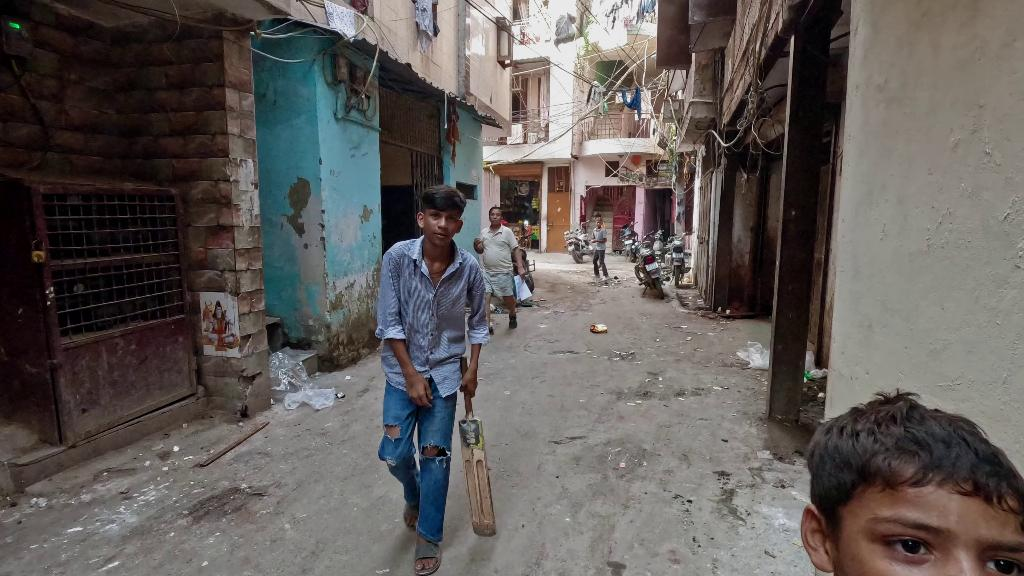garbage: (264, 351, 335, 414), (513, 274, 533, 300), (590, 323, 608, 333)
